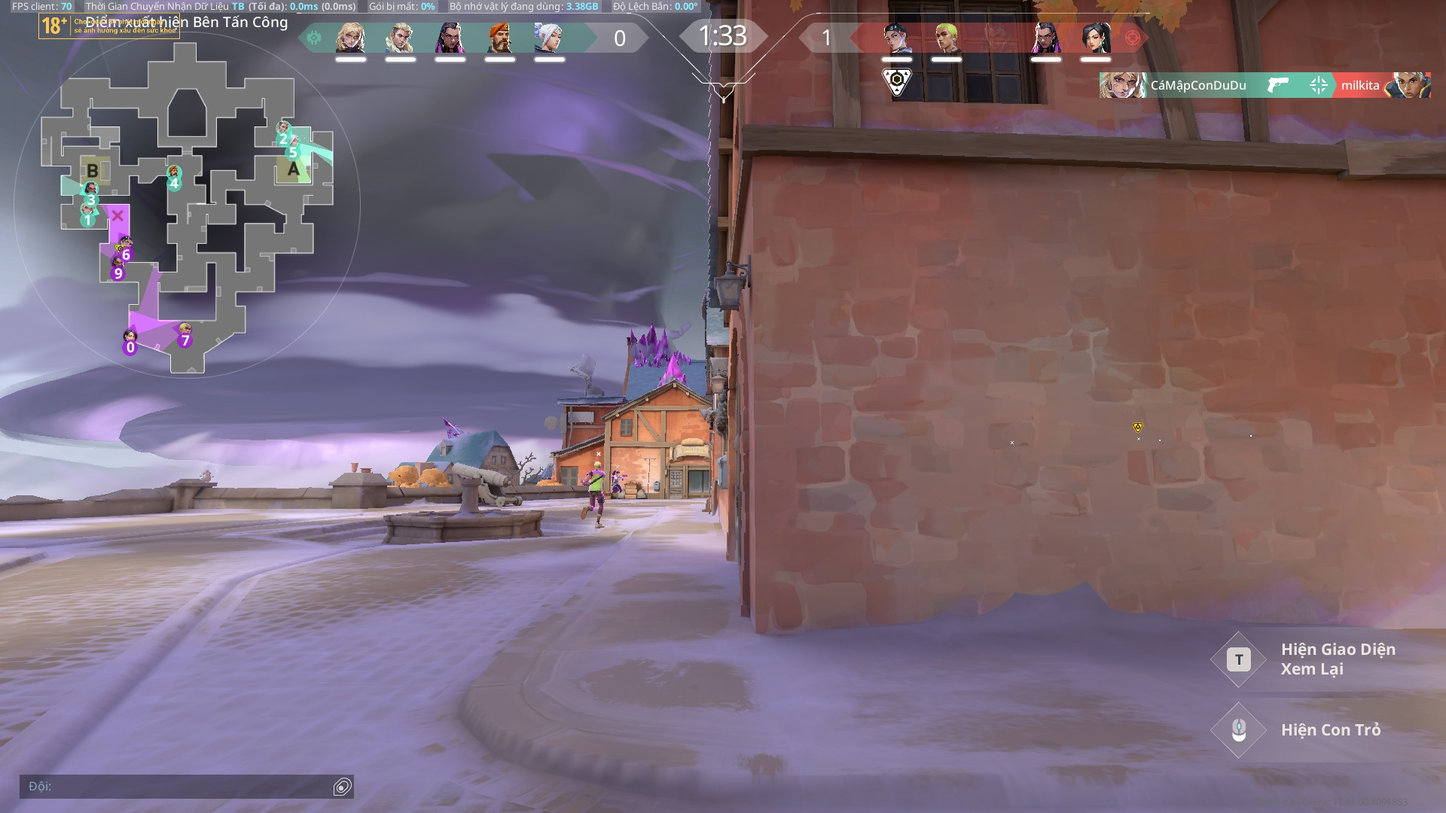body: (587, 470, 605, 490), (612, 475, 621, 484)
head: (594, 460, 602, 469), (613, 470, 621, 476)
